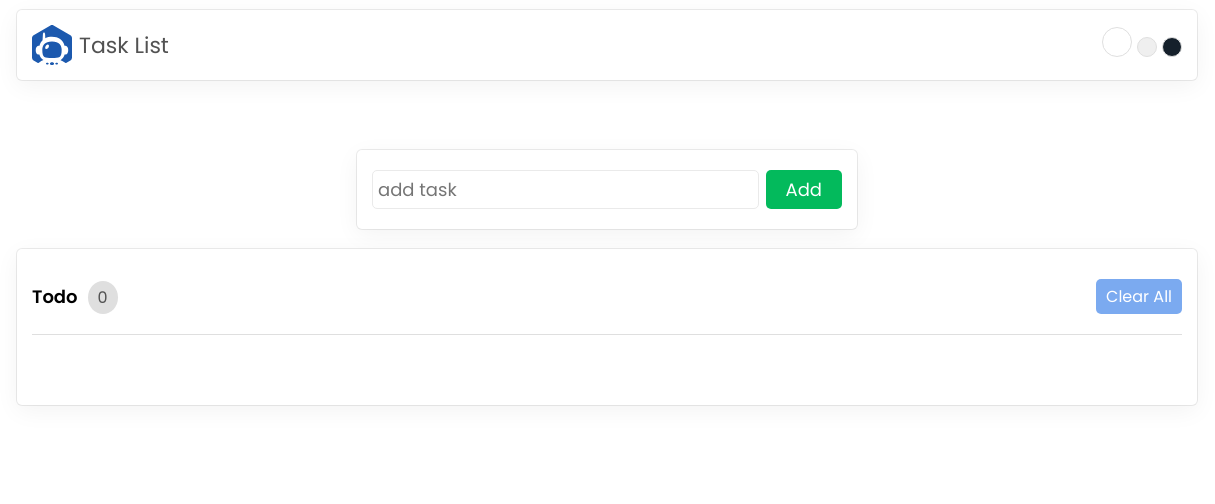
Scenario: App component › will edit task
The width and height of the screenshot is (1215, 504).
Type "test task 1" into the field with test id "input" at [565, 190], box [372,170,758,209]
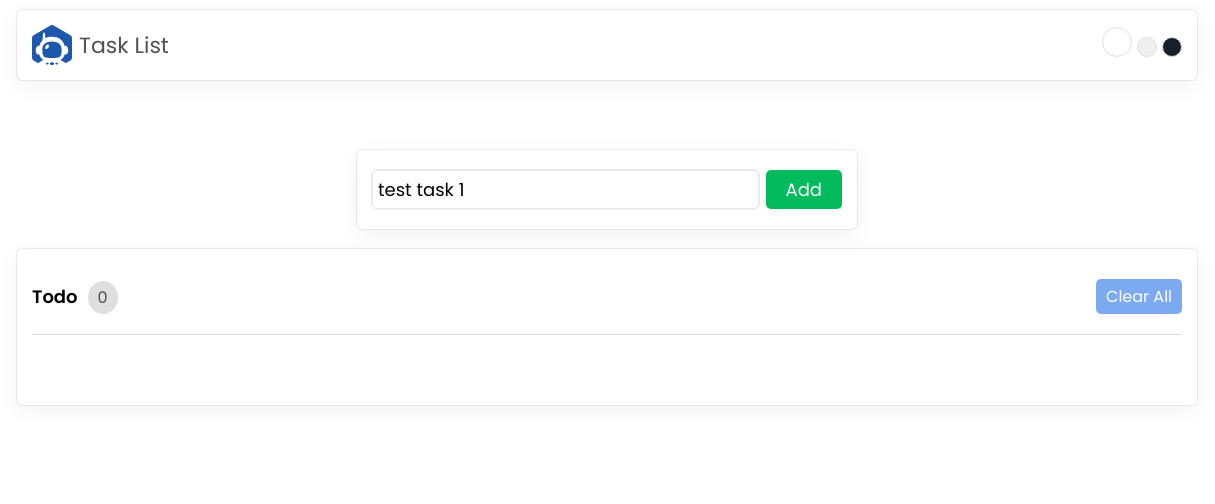
Click the button "Add" at [804, 190], box [766,170,842,209]
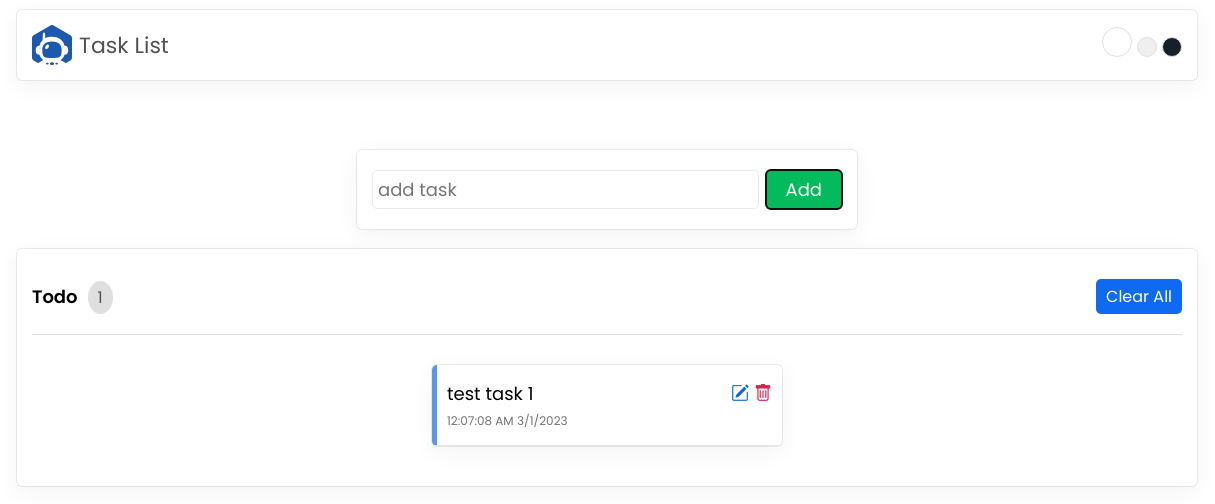
expect the text with test id "task-name" reads "test task 1": met, box [447,381,533,406]
Click the icon with test id "edit-task" at [740, 405], box [731,380,749,430]
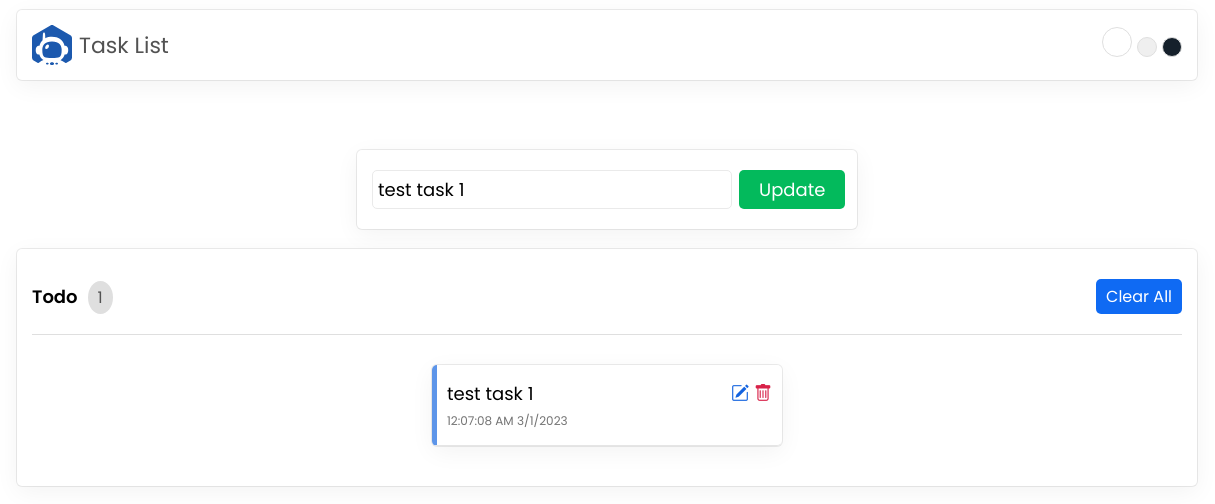
Type " edited" into the field with test id "input" at [552, 190], box [372,170,732,209]
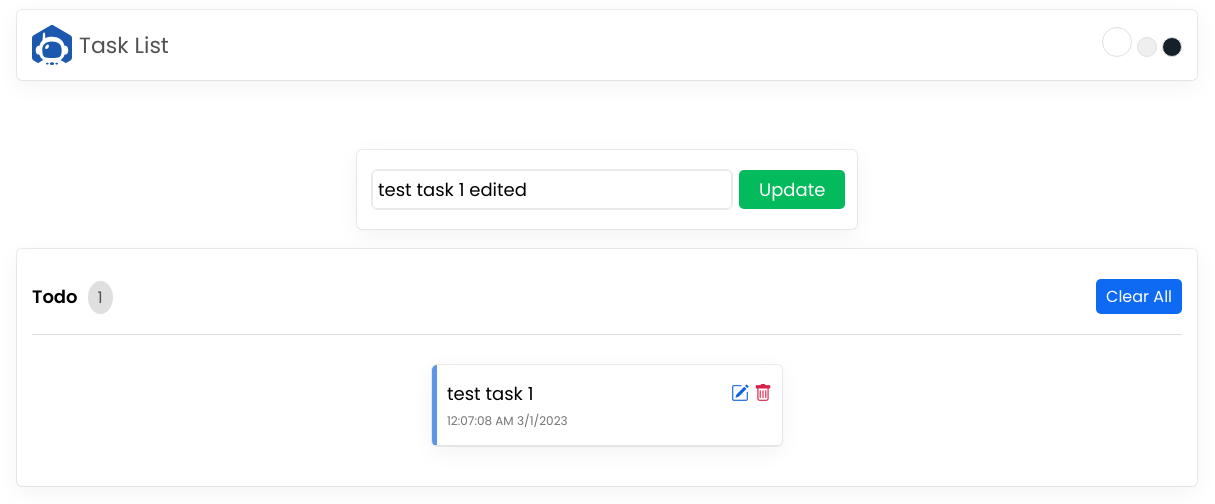
Click the button named "Add" at [792, 190], box [739,170,845,209]
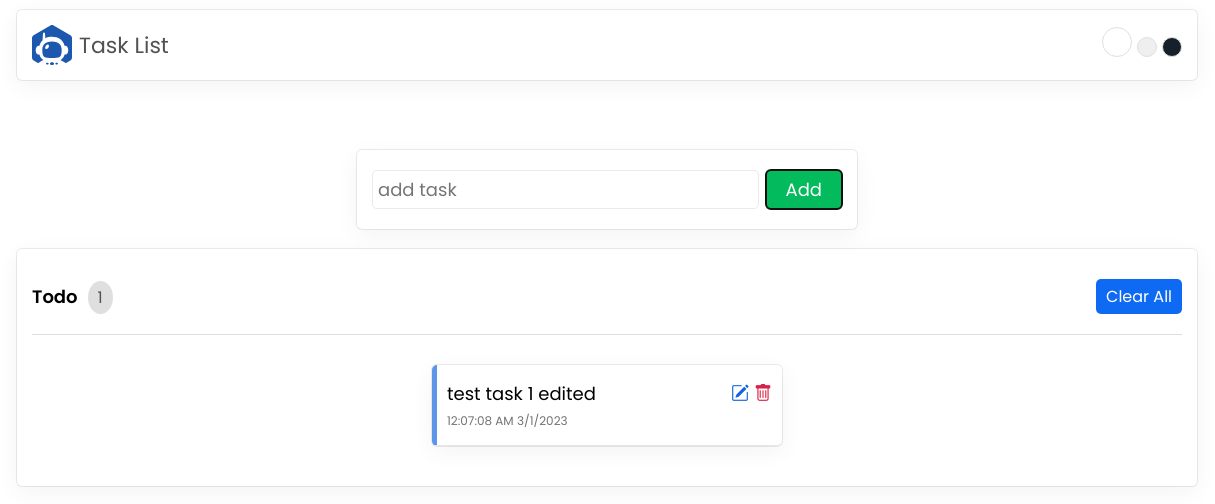
expect the text with test id "task-name" reads "test task 1 edited": met, box [447,381,596,406]
